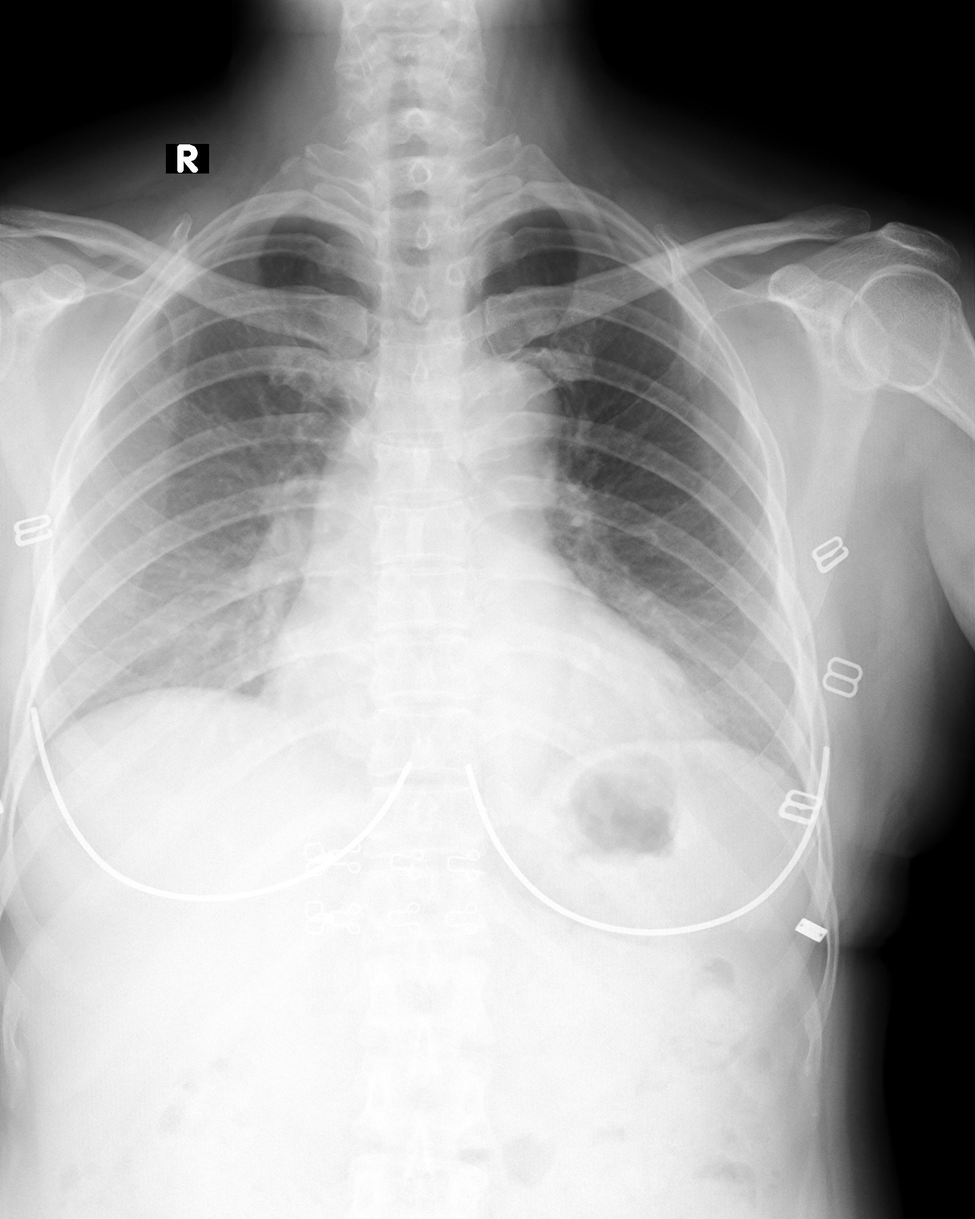Aortic enlargement: (429, 349, 560, 536)
Cardiomegaly: (246, 638, 702, 786)
